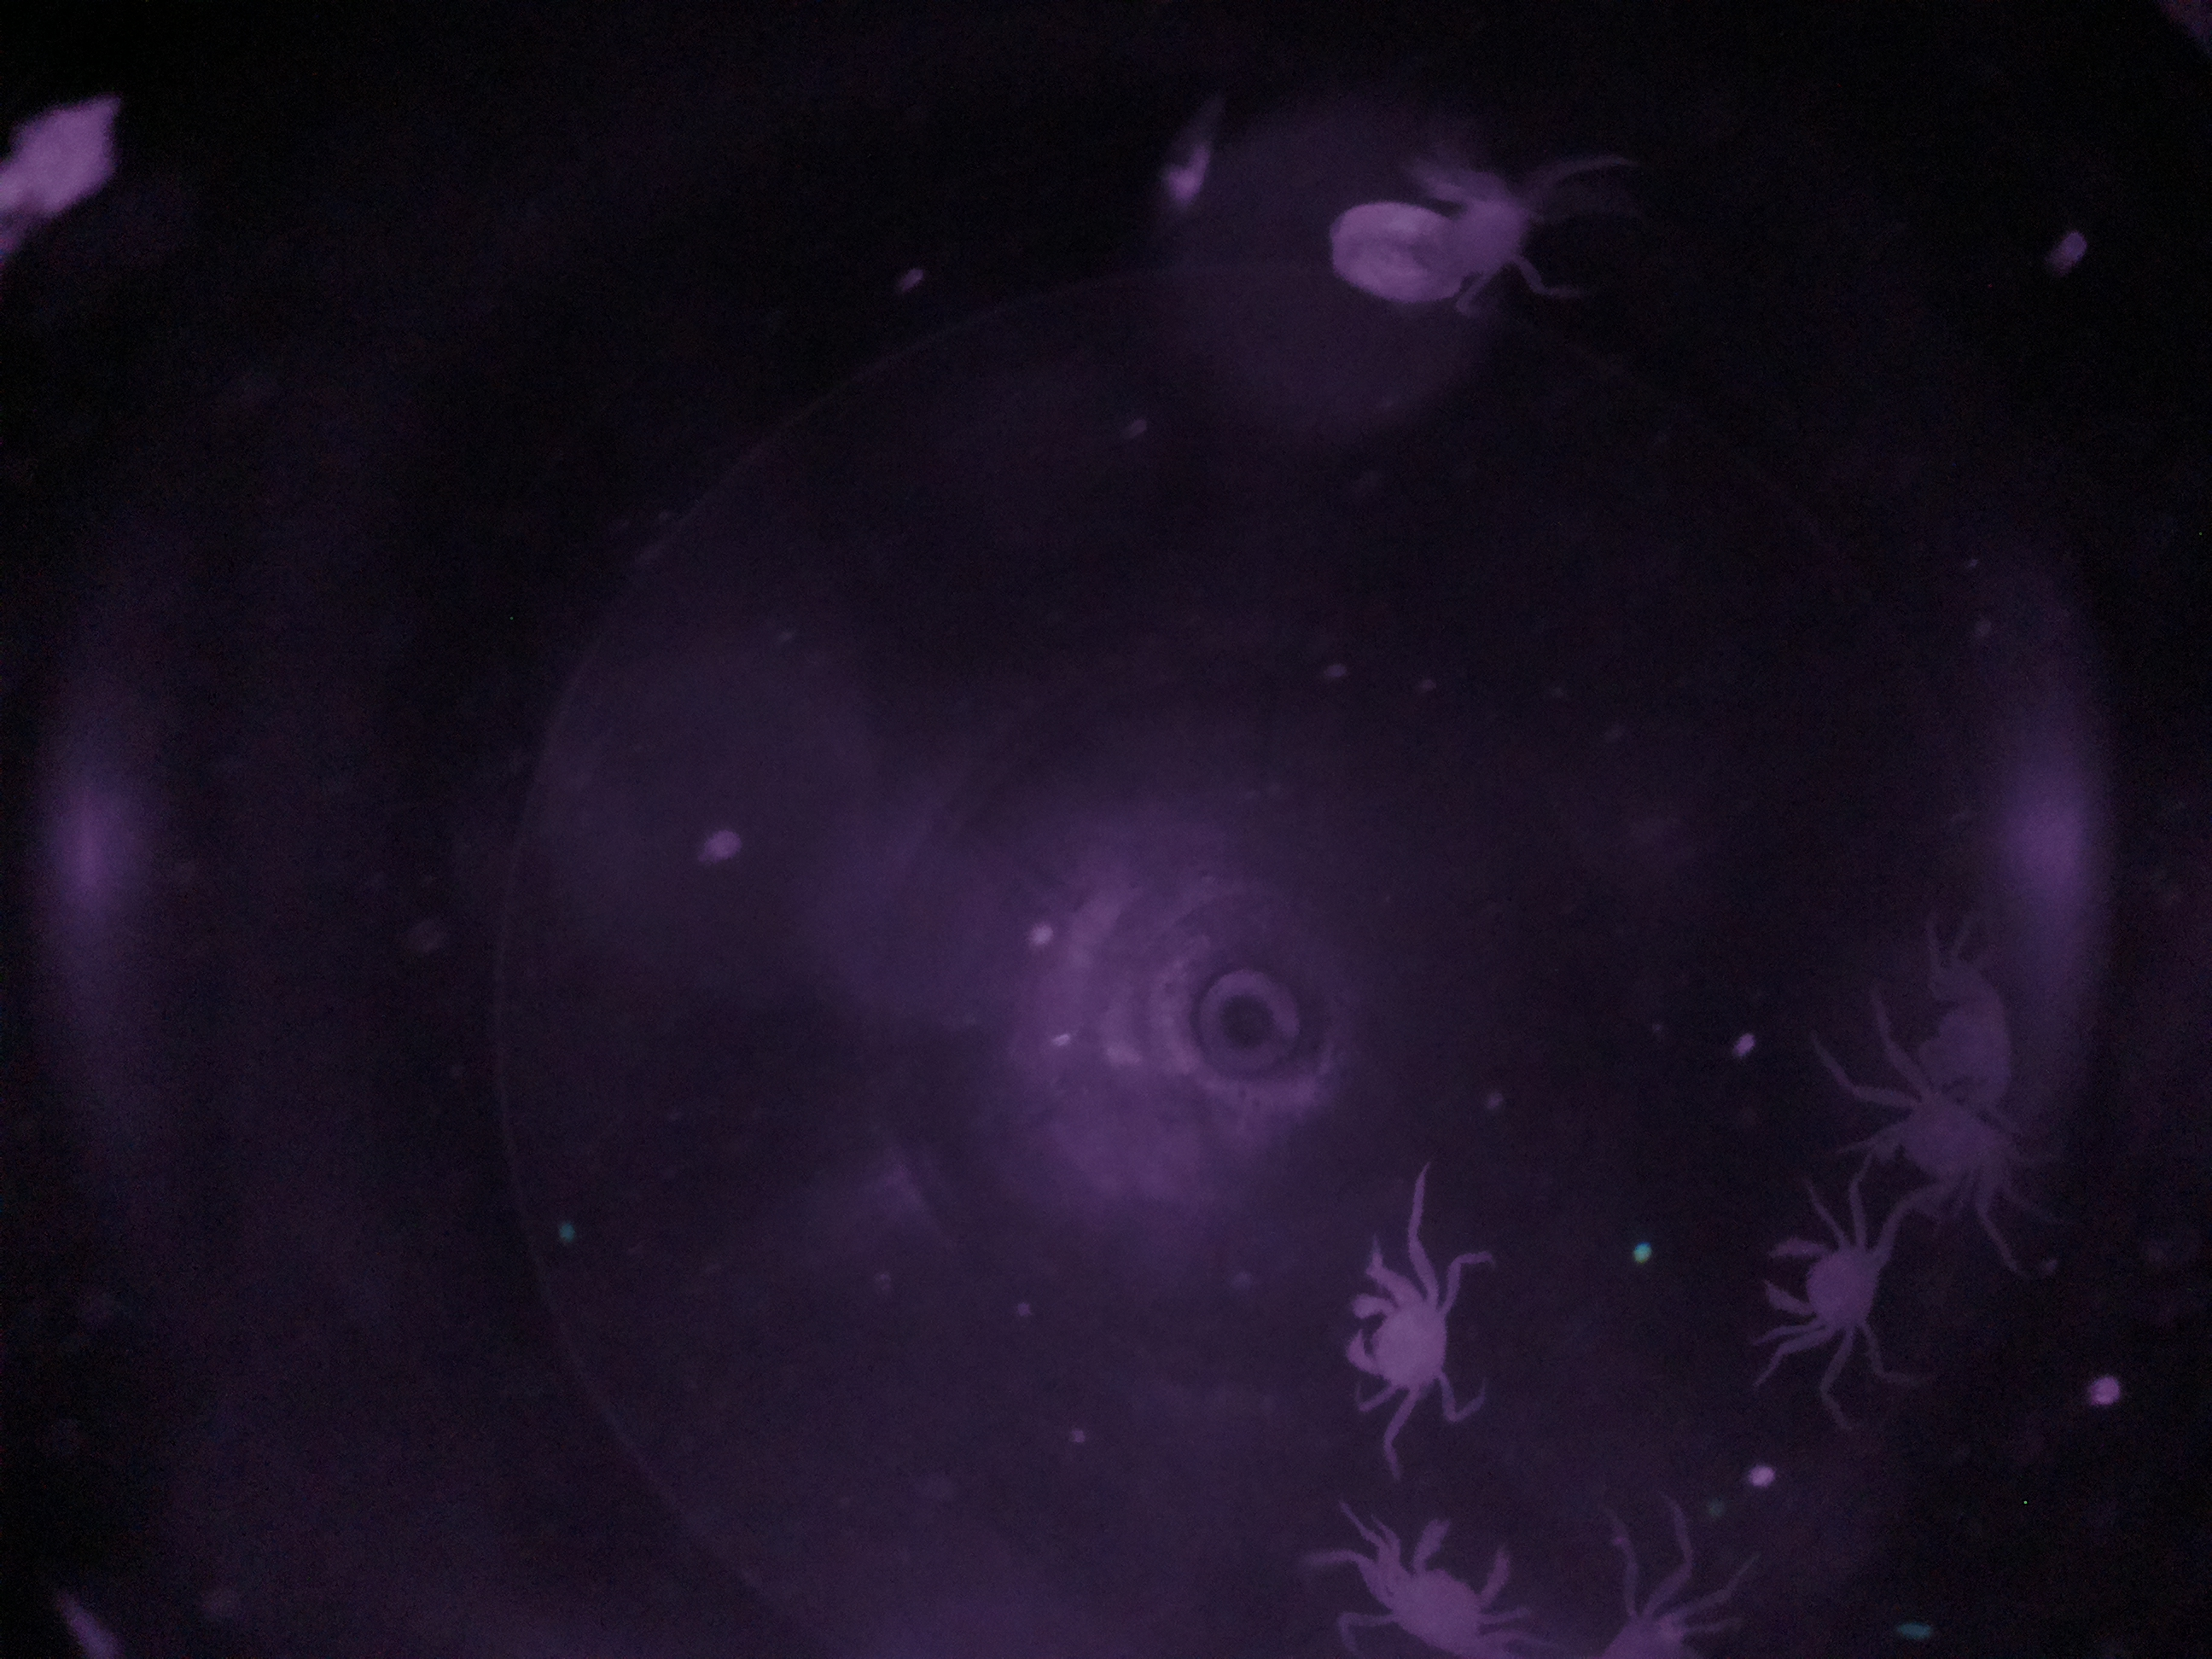Crab: (1359, 1493, 1533, 1659), (1745, 1197, 1909, 1363), (1336, 1244, 1475, 1420)
